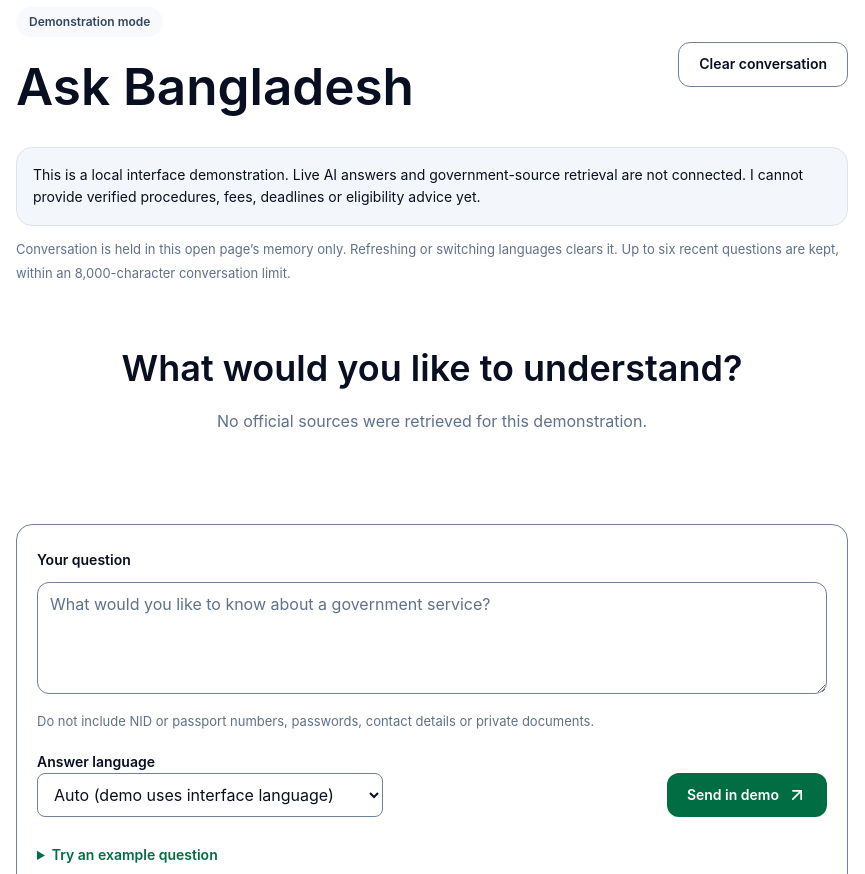
Test case: demonstration conversations › ignores late completion after stopping or clearing
This screenshot has width=865, height=874.
In the text box labelled "Your question": (432, 638) [37,582,827,694], type "cancel question"
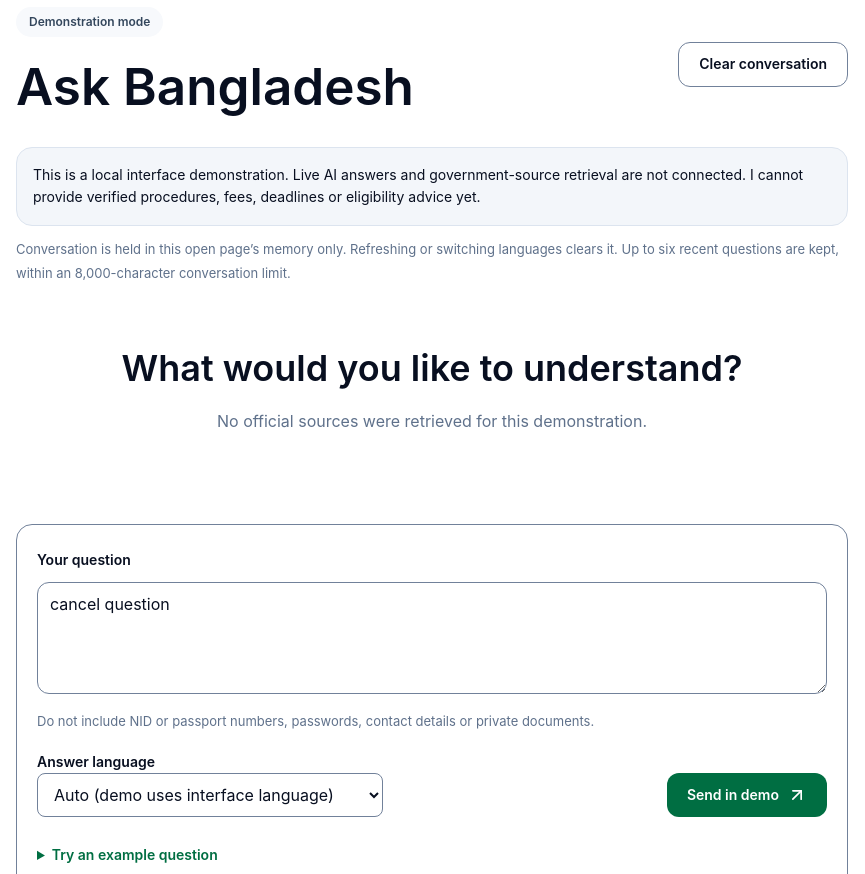
Click the button "Send in demo": (747, 795) [667,773,827,817]
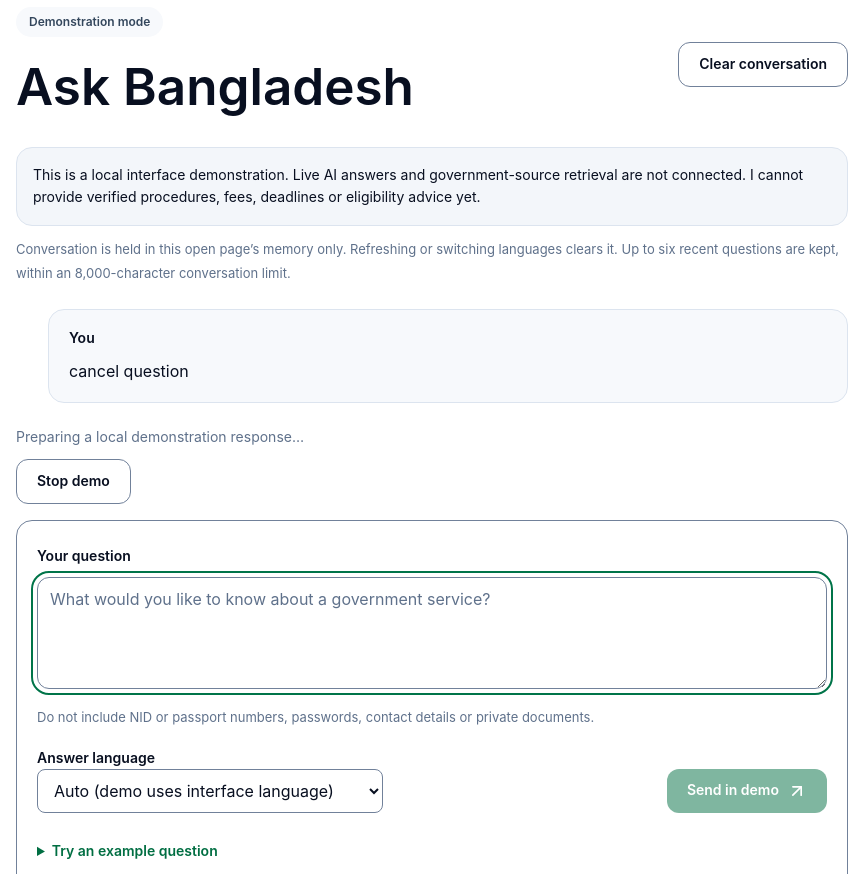
Click the button "Stop demo": (73, 481) [16,459,131,504]
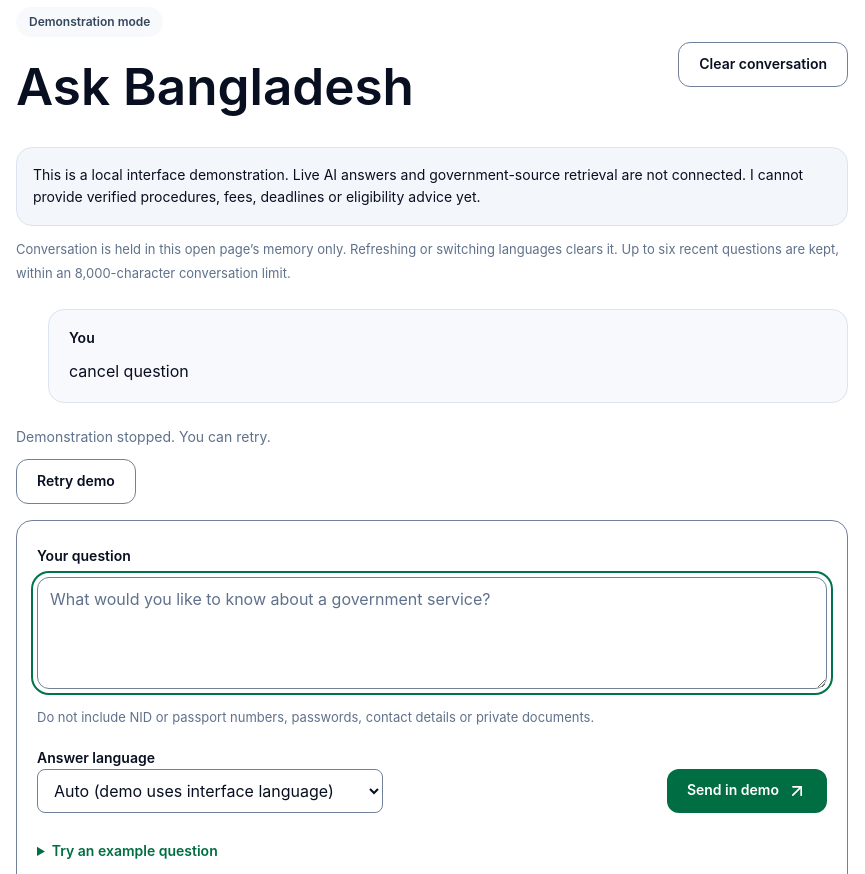
Result: the text "Demonstration stopped. You can retry." is shown at [16,428,271,445]
Click the button "Clear conversation": (763, 64) [678,42,848,87]
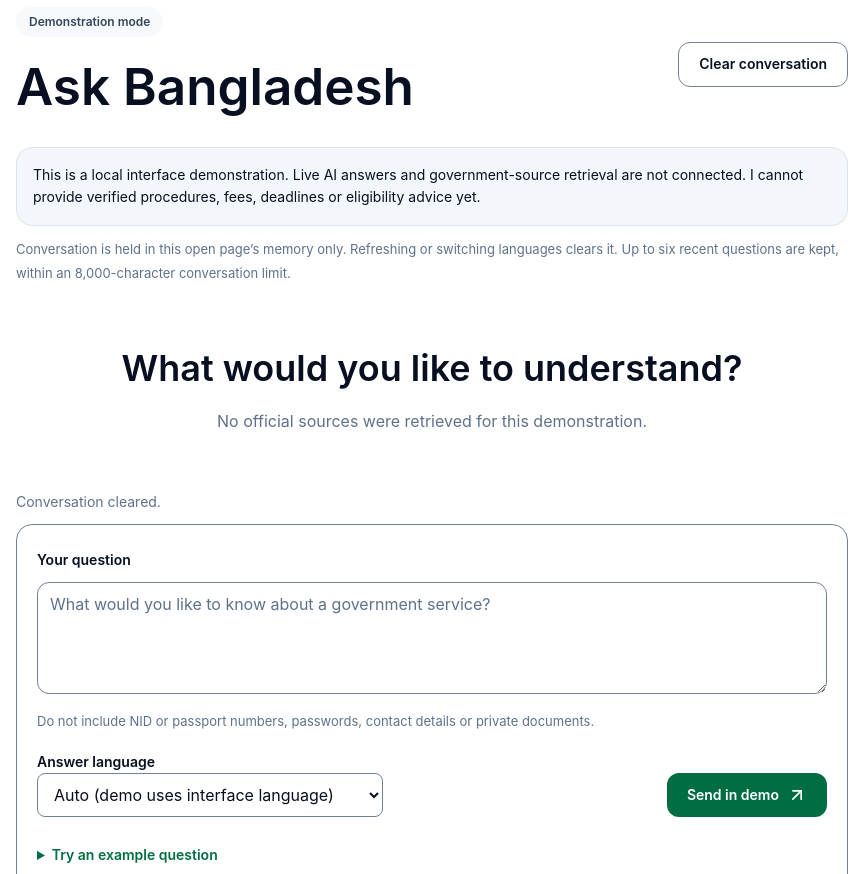
Result: the text "cancel question" is gone
